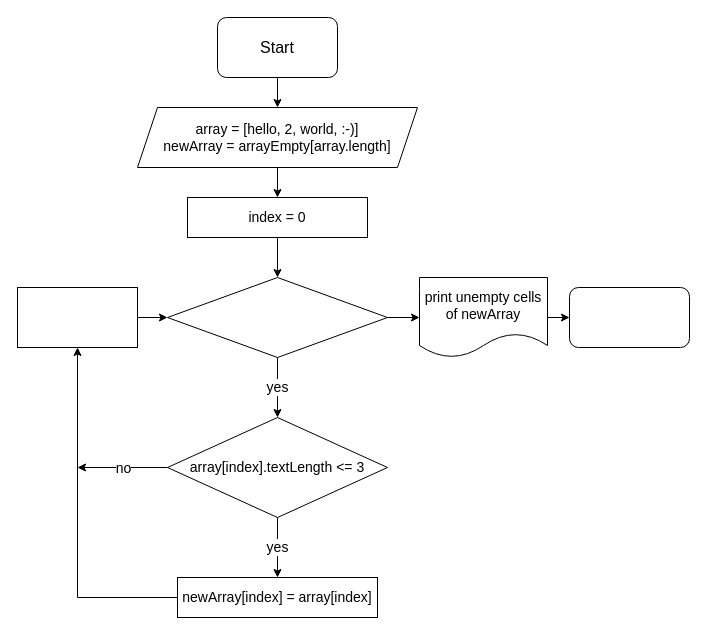
This 707x635 diagram has some shape labels left out. The shapes that lost their labels are listed below. From the top down, each one's box as (x1, y1, x2, y2) in pixels, then its label:
(16, 286, 138, 348): index = index + 1
(166, 276, 388, 358): index < array.length()
(568, 286, 690, 348): Finish
